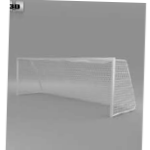goals: (15, 55, 139, 118)
